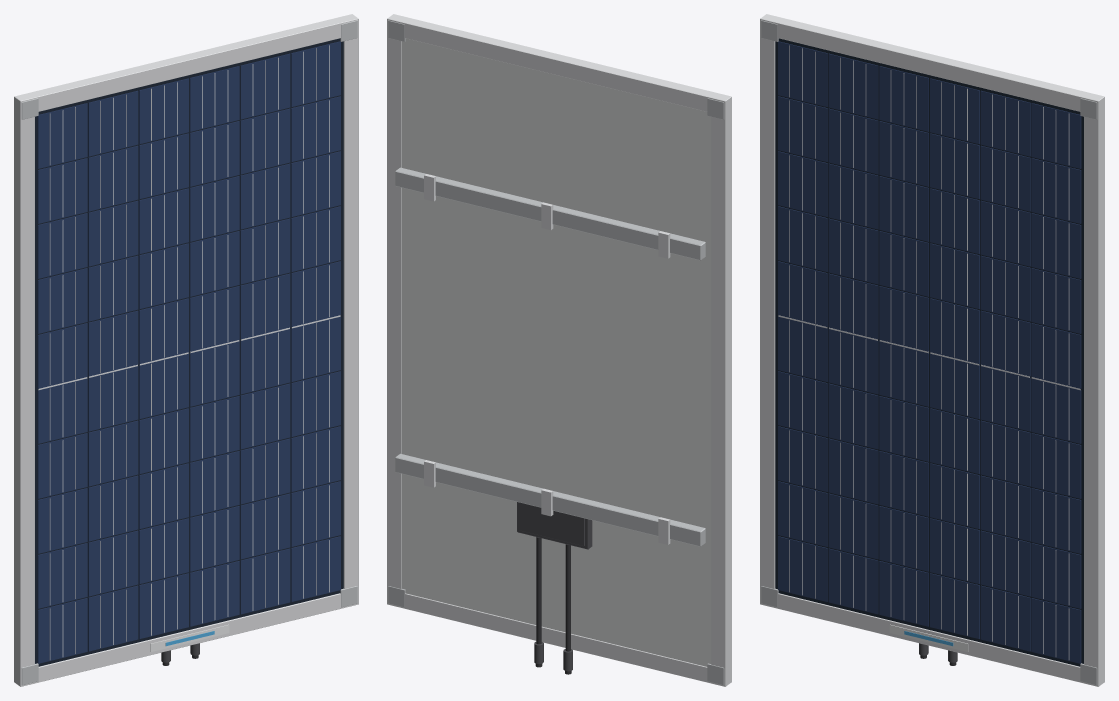
Rendered from solar_panel.glb.
3 views of the same model, side by side, from view 1: azimuth 30°, elevation 25°; view 2: azimuth 150°, elevation 25°; view 3: azimuth 330°, elevation 25° (orthographic).
Parts seen in each view (by area): view 1: SP_Glass, SP_Frame_Left, SP_Frame_Right, SP_Frame_Top, SP_Frame_Bottom, SP_Cell_1_0, SP_Cell_1_1, SP_Cell_1_2, SP_Cell_1_3, SP_Cell_1_5, SP_Cell_1_6, SP_Cell_1_7 (+54 smaller); view 2: SP_Backsheet, SP_Frame_Left, SP_Frame_Right, SP_Frame_Top, SP_Rail, SP_Rail.001, SP_Frame_Bottom, SP_JBoxLid, SP_Cable_0, SP_Cable_1, SP_JBox; view 3: SP_Glass, SP_Frame_Right, SP_Frame_Left, SP_Frame_Top, SP_Frame_Bottom, SP_Cell_4_0, SP_Cell_4_1, SP_Cell_4_2, SP_Cell_4_3, SP_Cell_4_5, SP_Cell_4_6, SP_Cell_4_7 (+54 smaller).
Boxes of the visible parts, left/top/right/bottom form: SP_Glass: left=35, top=38, right=343, bottom=666; SP_Frame_Left: left=14, top=93, right=34, bottom=686; SP_Frame_Right: left=338, top=14, right=358, bottom=607; SP_Frame_Top: left=14, top=17, right=358, bottom=115; SP_Frame_Bottom: left=14, top=589, right=358, bottom=686; SP_Cell_1_0: left=88, top=585, right=138, bottom=651; SP_Cell_1_1: left=88, top=530, right=138, bottom=596; SP_Cell_1_2: left=88, top=475, right=138, bottom=541; SP_Cell_1_3: left=88, top=420, right=138, bottom=486; SP_Cell_1_5: left=88, top=310, right=138, bottom=376; SP_Cell_1_6: left=88, top=255, right=138, bottom=321; SP_Cell_1_7: left=88, top=200, right=138, bottom=266; SP_Backsheet: left=402, top=38, right=710, bottom=666; SP_Frame_Left: left=711, top=93, right=731, bottom=686; SP_Frame_Right: left=387, top=14, right=407, bottom=607; SP_Frame_Top: left=387, top=17, right=731, bottom=114; SP_Rail: left=395, top=453, right=705, bottom=546; SP_Rail.001: left=395, top=167, right=705, bottom=260; SP_Frame_Bottom: left=387, top=590, right=731, bottom=686; SP_JBoxLid: left=519, top=502, right=584, bottom=545; SP_Cable_0: left=565, top=544, right=570, bottom=651; SP_Cable_1: left=536, top=537, right=541, bottom=644; SP_JBox: left=517, top=502, right=592, bottom=549; SP_Glass: left=775, top=38, right=1083, bottom=666; SP_Frame_Right: left=1084, top=93, right=1104, bottom=686; SP_Frame_Left: left=760, top=14, right=780, bottom=607; SP_Frame_Top: left=760, top=17, right=1104, bottom=115; SP_Frame_Bottom: left=760, top=589, right=1104, bottom=686; SP_Cell_4_0: left=980, top=585, right=1030, bottom=651; SP_Cell_4_1: left=980, top=530, right=1030, bottom=596; SP_Cell_4_2: left=980, top=475, right=1030, bottom=541; SP_Cell_4_3: left=980, top=420, right=1030, bottom=486; SP_Cell_4_5: left=980, top=310, right=1030, bottom=376; SP_Cell_4_6: left=980, top=255, right=1030, bottom=321; SP_Cell_4_7: left=980, top=200, right=1030, bottom=266.
Size of the model in its own units: 1.04 by 1.78 by 0.0915.
